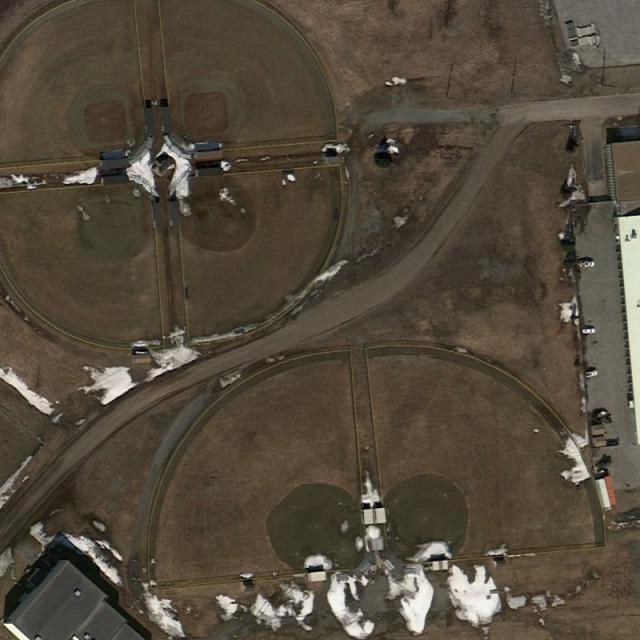vehicle: (577, 259, 594, 269), (586, 369, 598, 378), (582, 327, 596, 334)
